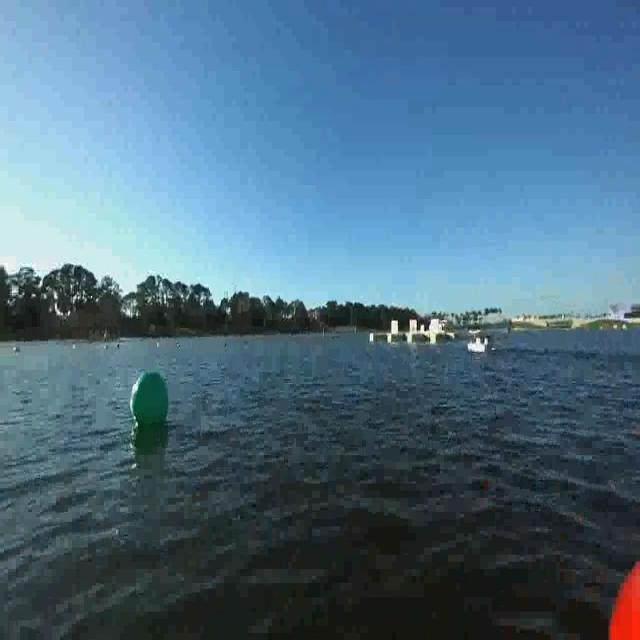green-buoy: (131, 369, 169, 427)
red-buoy: (602, 548, 640, 639)
